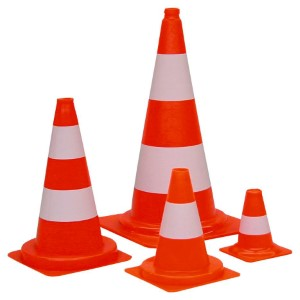traffic cone: (90, 7, 253, 248), (7, 97, 132, 277), (124, 168, 240, 292), (219, 188, 292, 262)
